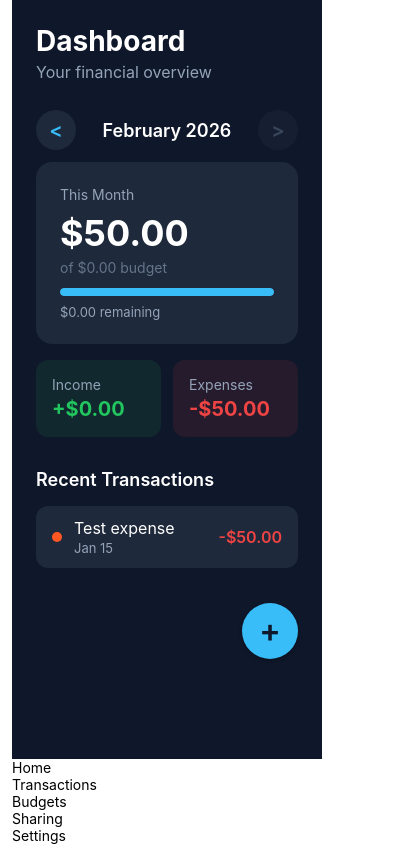
MainTabNavigator › navigates to settings tab
The width and height of the screenshot is (402, 844).
Click the text "Settings" at (39,836), box [12,827,66,843]
(page scrolled)
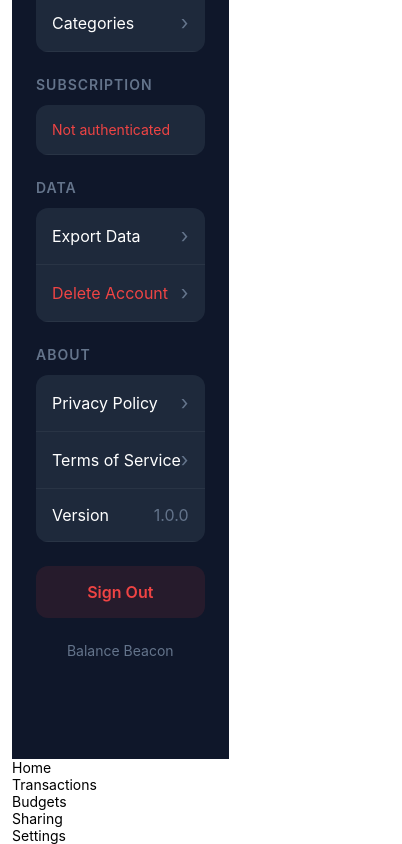
Expected: the text "Sign Out" is shown, [87,582,153,602]
